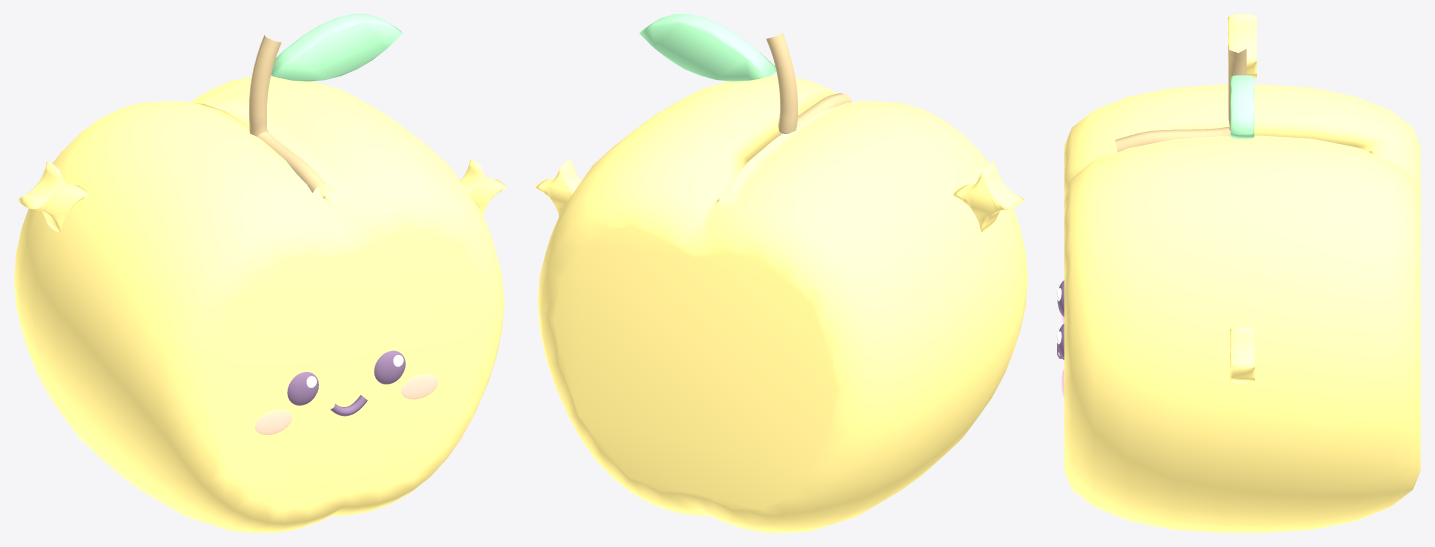
File: squishy_goldapple.glb
The picture shows the model from 3 angles, left to right: view 1: azimuth 30°, elevation 25°; view 2: azimuth 150°, elevation 25°; view 3: azimuth 270°, elevation 25°; orthographic projection. The views are drawn at different scales.
Parts seen in each view (by area): view 1: goldapple; view 2: goldapple; view 3: goldapple.
Boxes of the visible parts, box(x1,y1,x2,y2) form: goldapple: box(14, 14, 506, 532); goldapple: box(535, 14, 1027, 532); goldapple: box(1056, 14, 1420, 532).
Size of the model in its own units: 1.1 by 1 by 0.7114.
